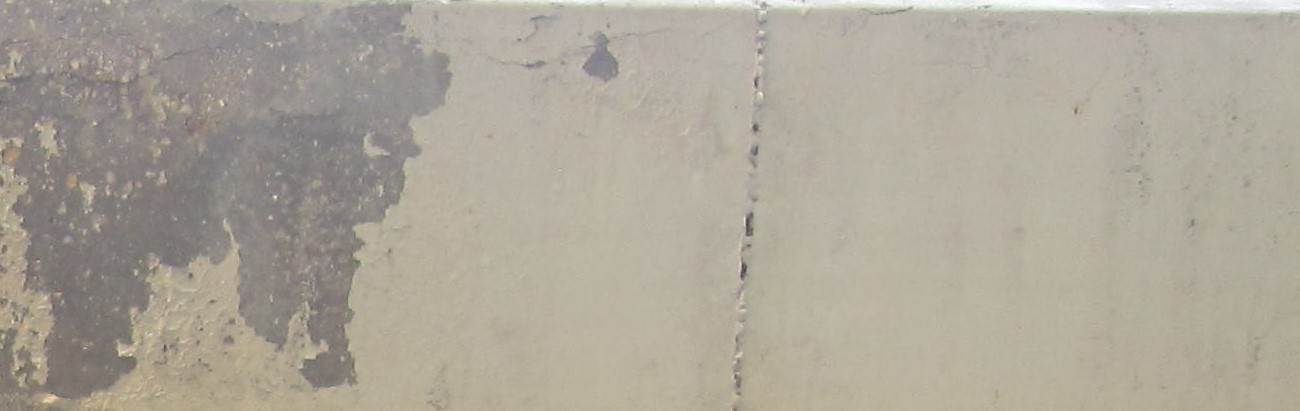Spalling: (1, 1, 456, 411), (582, 31, 619, 84)
